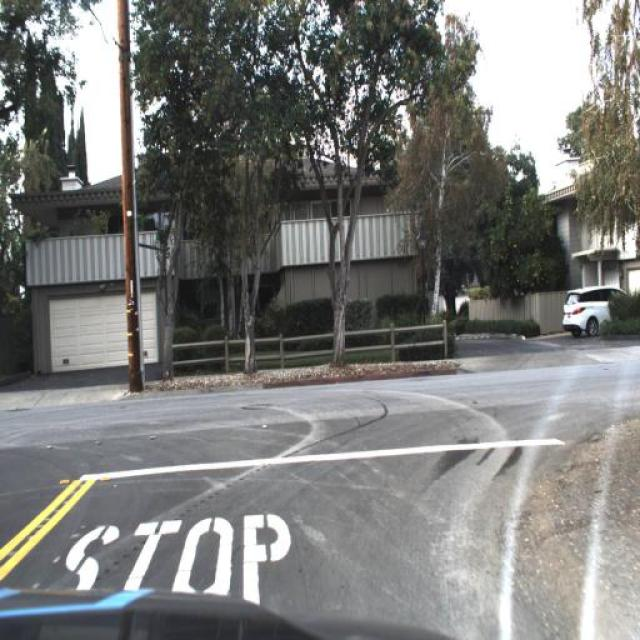car: (560, 282, 632, 338), (560, 287, 625, 335)
